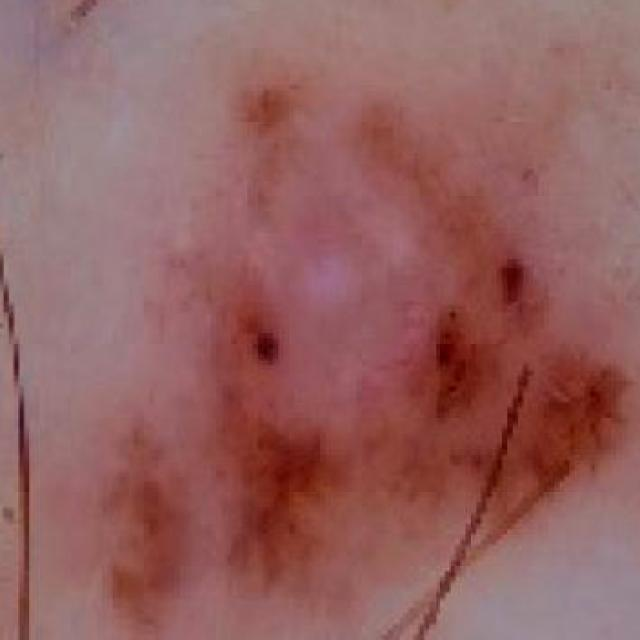BCC: (38, 81, 640, 640)
